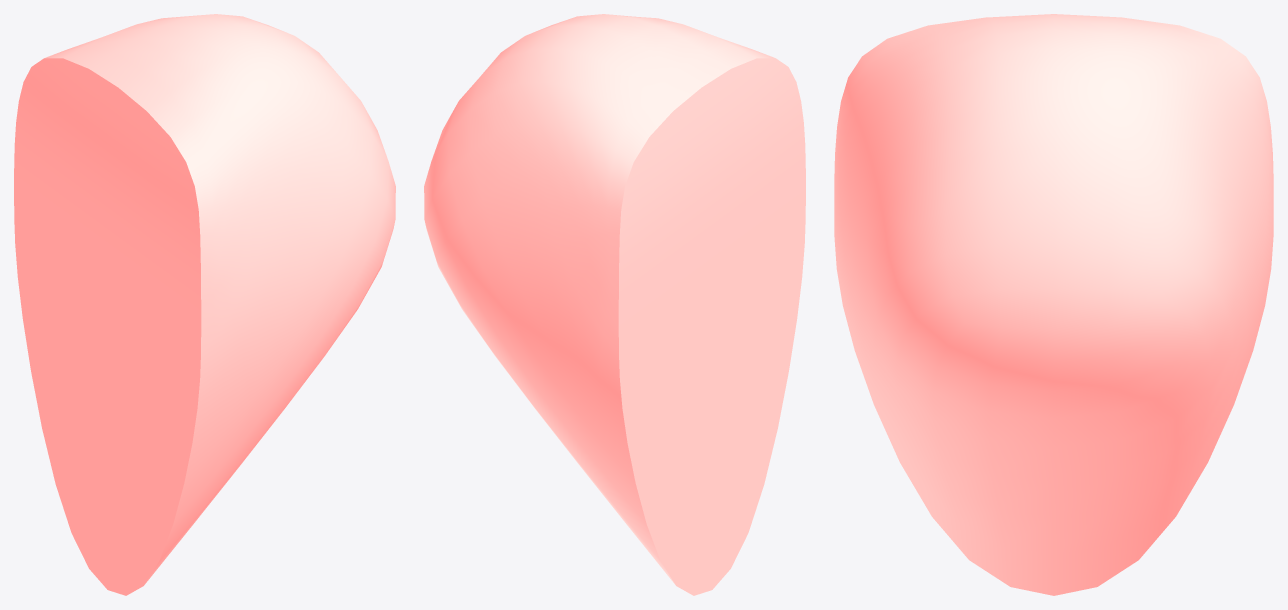
File: Half_Heart_-_Updated.fbx
3 renders of one model, left to right at view 1: azimuth 30°, elevation 25°; view 2: azimuth 150°, elevation 25°; view 3: azimuth 270°, elevation 25°, orthographic. The views are drawn at different scales.
Parts seen in each view (by area): view 1: Half Heart; view 2: Half Heart; view 3: Half Heart.
Boxes of the visible parts, x1,y1,x2,y2 form: Half Heart: (14,14,395,595); Half Heart: (424,14,805,595); Half Heart: (834,14,1273,595).
Size of the model in its own units: 197 by 387 by 246.
